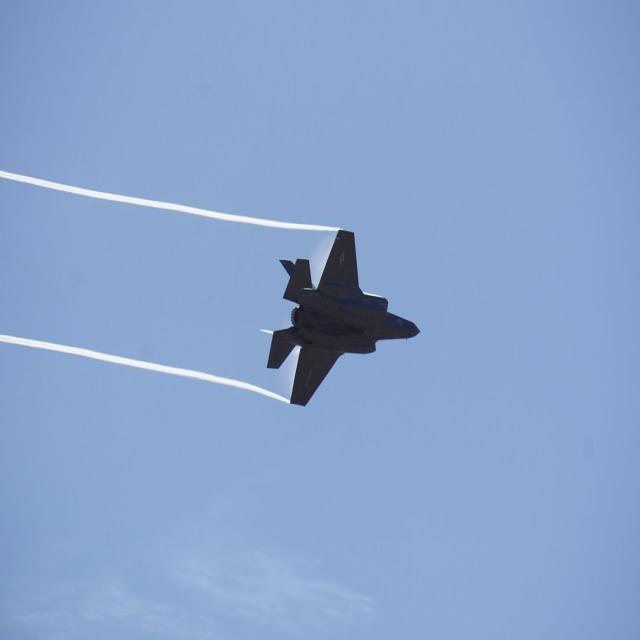MIL_Plane: (259, 229, 421, 407)
